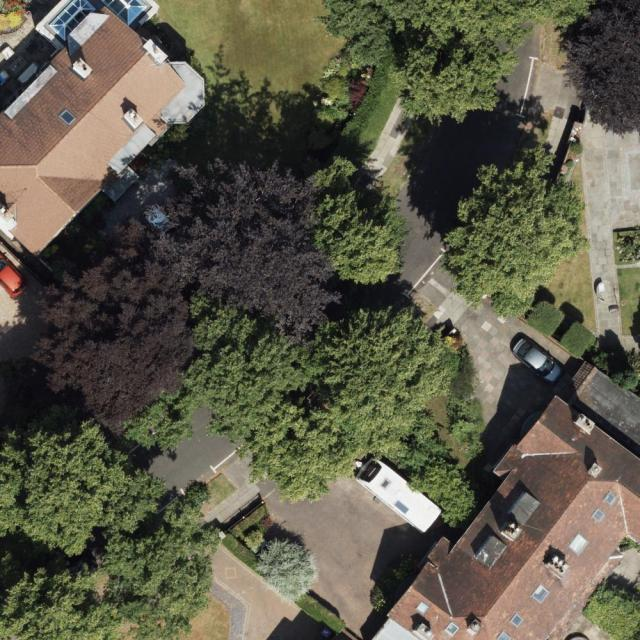roof: (370, 362, 640, 640), (0, 0, 186, 262)
skylight: (47, 0, 95, 42), (101, 0, 150, 27), (567, 531, 590, 555), (531, 584, 549, 604), (58, 107, 76, 126), (590, 506, 607, 524), (444, 620, 461, 637), (510, 613, 524, 628), (495, 629, 513, 640), (416, 602, 431, 615), (605, 491, 618, 505)
